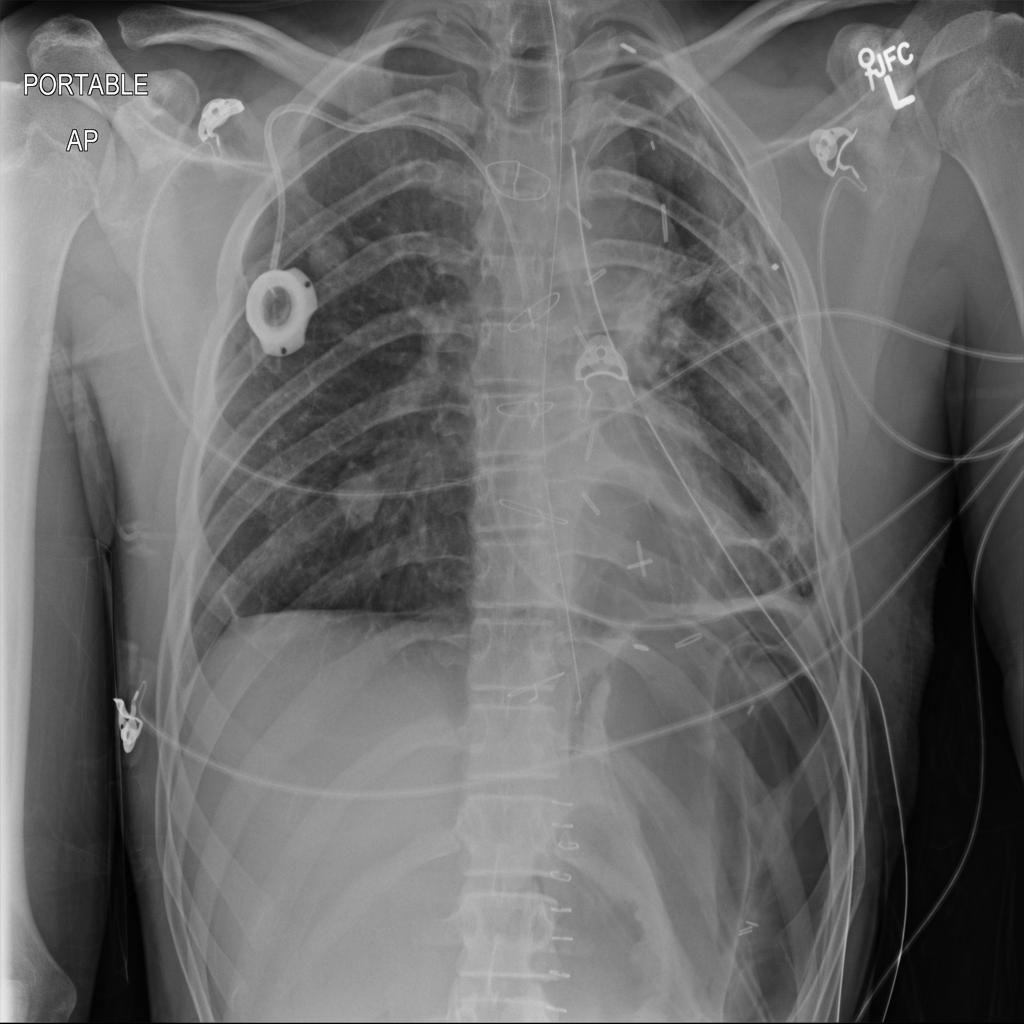nodule: (327, 452, 396, 539), (298, 217, 364, 288)
